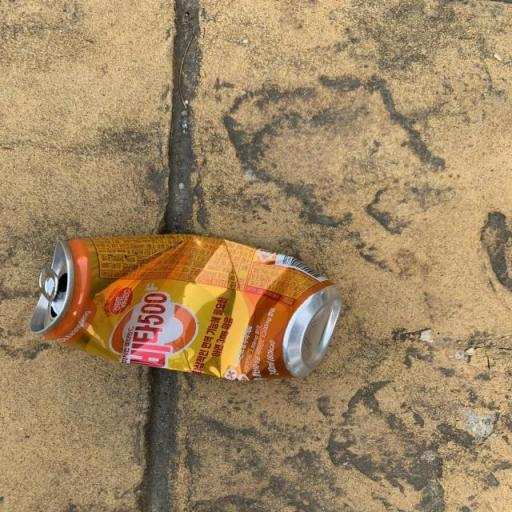metal: (20, 207, 362, 404)
